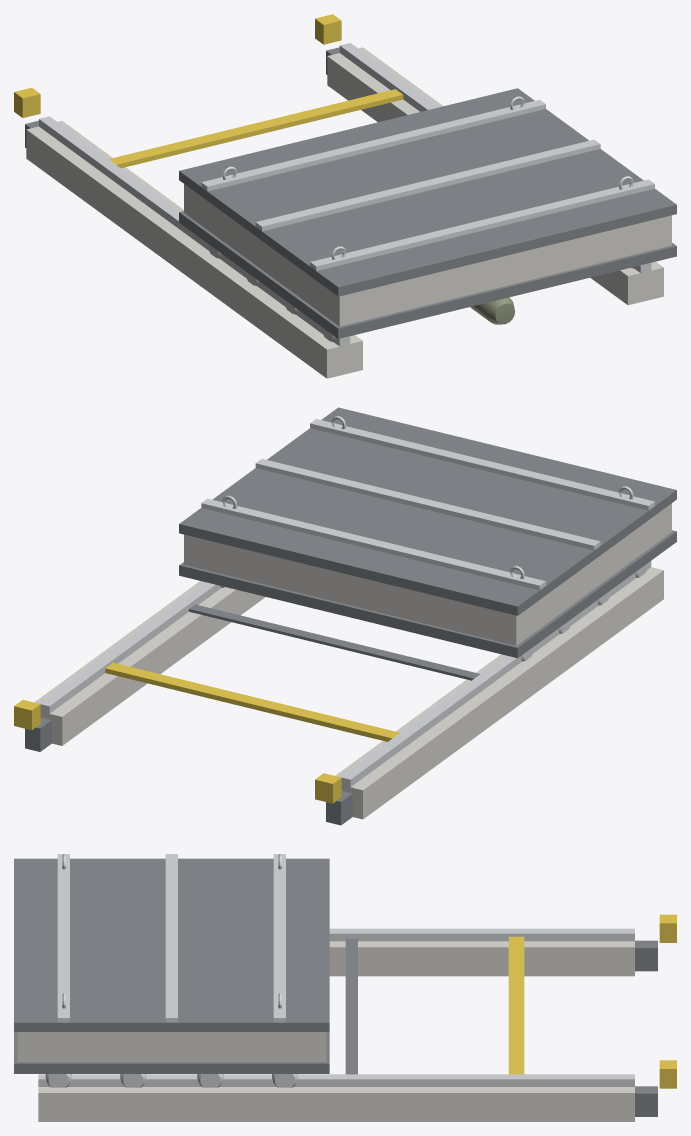
Rendered from cold-war-missile-silo-and-command-bunker-silo-blast-do-05555343__15649.glb.
3 renders of one model, top to bottom at view 1: azimuth 30°, elevation 25°; view 2: azimuth 150°, elevation 25°; view 3: azimuth 270°, elevation 25°, orthographic.
Visible parts, largest first — view 1: blast-door (×3), silo-blast-door-sliding; view 2: blast-door (×3), silo-blast-door-sliding; view 3: blast-door (×3), silo-blast-door-sliding.
Part boxes in pixels (<box>): blast-door (×3): <box>179,88,676,342</box>; silo-blast-door-sliding: <box>14,14,663,378</box>; blast-door (×3): <box>179,407,676,661</box>; silo-blast-door-sliding: <box>14,561,663,825</box>; blast-door (×3): <box>14,854,329,1087</box>; silo-blast-door-sliding: <box>38,914,676,1121</box>.
Size of the model in its own units: 7.54 by 2.49 by 12.89.
